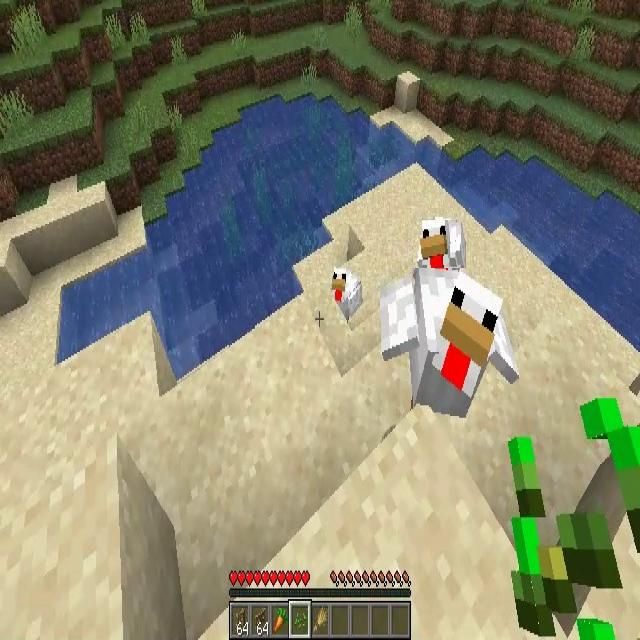duck: (379, 266, 517, 416), (413, 220, 466, 268), (330, 265, 362, 315)
